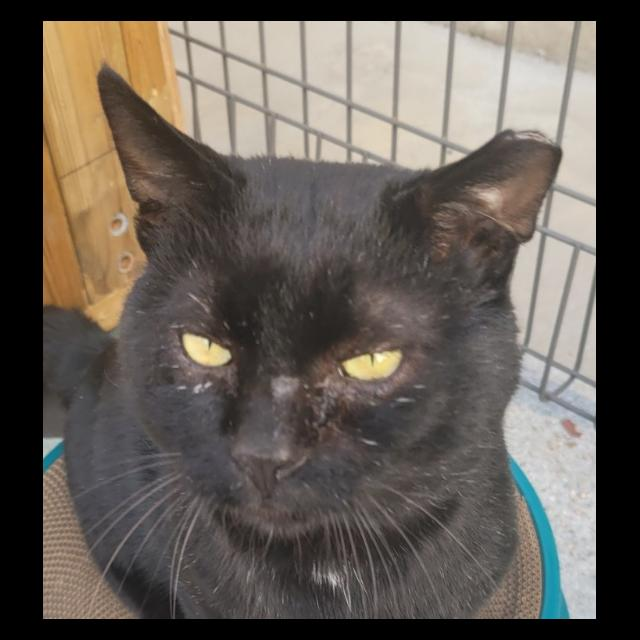animals: (84, 51, 566, 533)
